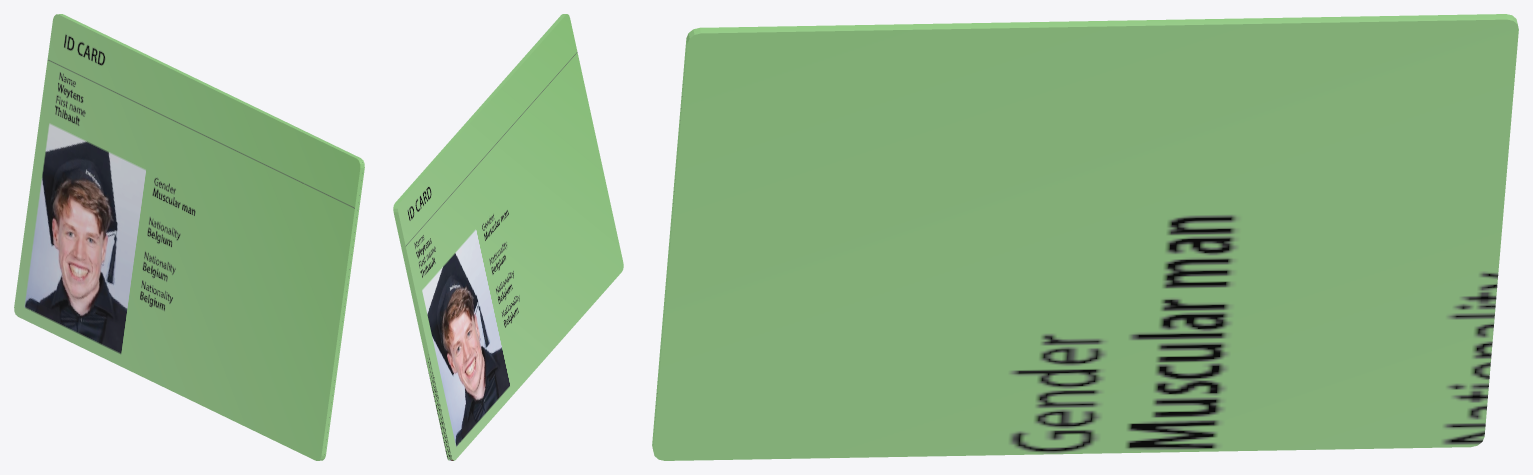
The picture shows the model from 3 angles, left to right: view 1: azimuth 30°, elevation 25°; view 2: azimuth 150°, elevation 25°; view 3: azimuth 270°, elevation 25°; orthographic projection. The views are drawn at different scales.
Visible parts, largest first — view 1: Cube; view 2: Cube; view 3: Cube.
Part boxes in pixels (bbox=[...]): Cube: bbox=[14, 14, 364, 460]; Cube: bbox=[393, 14, 623, 460]; Cube: bbox=[652, 14, 1518, 460].
Size of the model in its own units: 1.3 by 3.3 by 5.15.
Materials: 1 (1 with a texture image).
